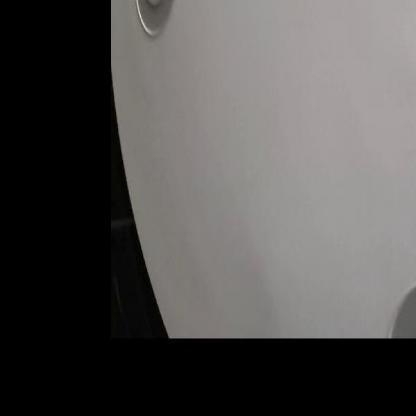light_off: (379, 240, 415, 338), (122, 0, 190, 43)
